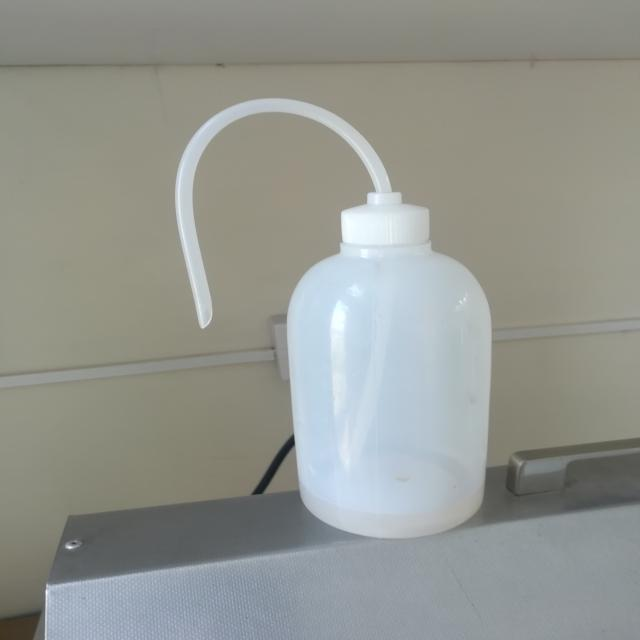Wash_Bottle: (144, 85, 528, 558)
